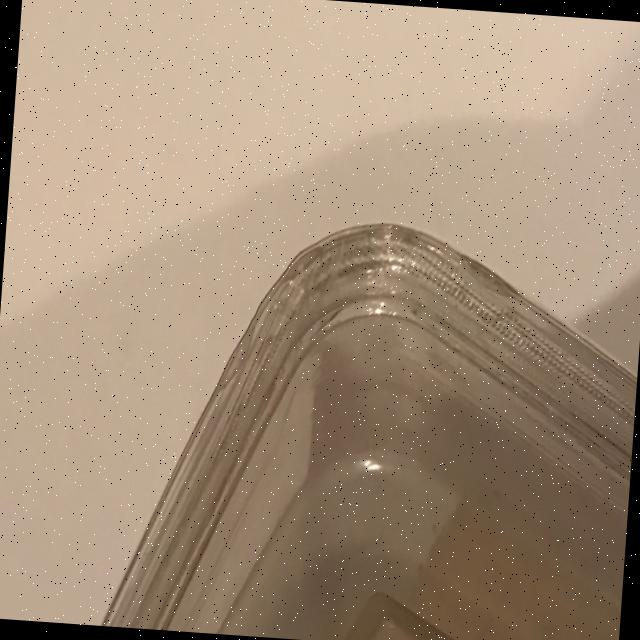plastic: (99, 202, 640, 640)
